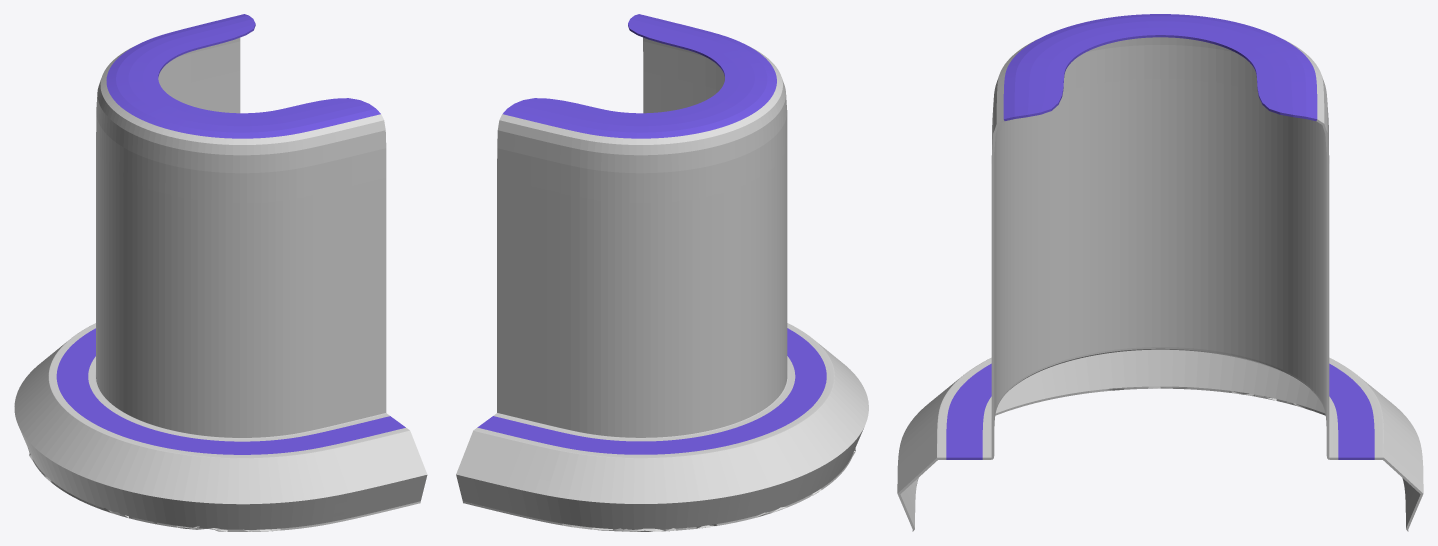
3 views of the same model, side by side, from view 1: azimuth 30°, elevation 25°; view 2: azimuth 150°, elevation 25°; view 3: azimuth 270°, elevation 25° (orthographic). The views are drawn at different scales.
Visible parts, largest first — view 1: Robot-Charger; view 2: Robot-Charger; view 3: Robot-Charger.
Boxes of the visible parts, box(x1,y1,x2,y2) form: Robot-Charger: box(14, 14, 427, 531); Robot-Charger: box(456, 14, 868, 531); Robot-Charger: box(897, 14, 1423, 531).
Bounding box in the file's own units: 1.88 × 2.44 × 2.79.
